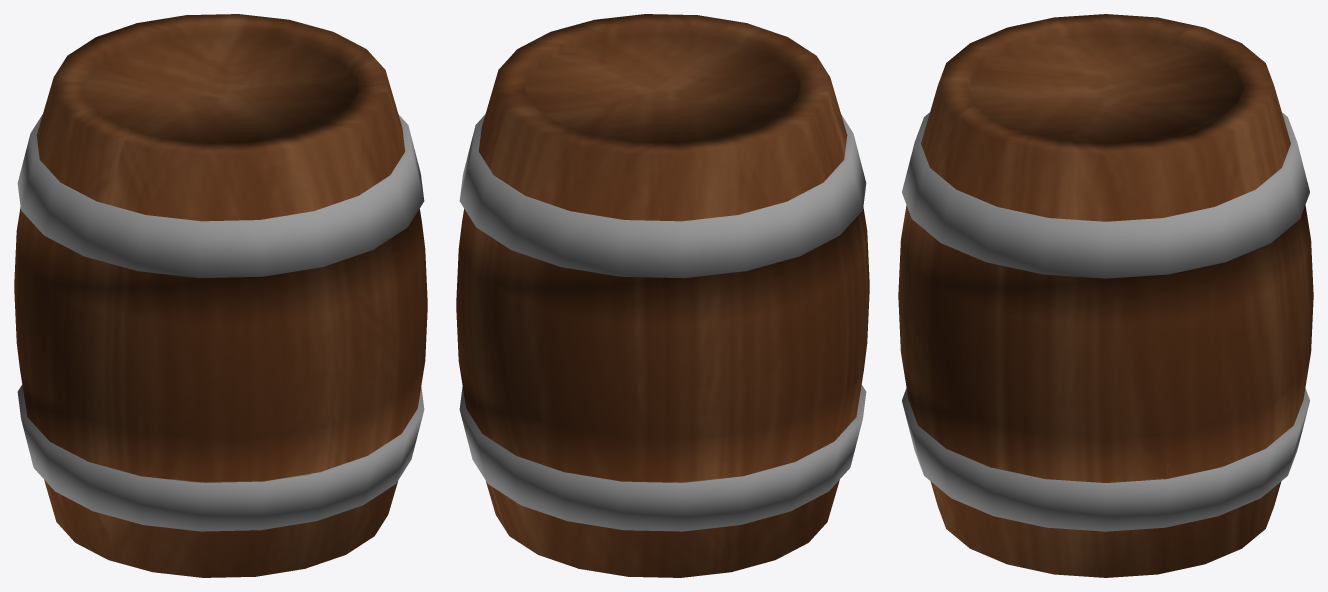
The model's file is Barril.fbx.
3 views of the same model, side by side, from view 1: azimuth 30°, elevation 25°; view 2: azimuth 150°, elevation 25°; view 3: azimuth 270°, elevation 25° (orthographic).
Parts seen in each view (by area): view 1: pSphere9; view 2: pSphere9; view 3: pSphere9.
Boxes of the visible parts, x1=… form: pSphere9: x1=14, y1=14, x2=427, y2=577; pSphere9: x1=456, y1=14, x2=869, y2=577; pSphere9: x1=898, y1=14, x2=1313, y2=577.
Bounding box in the file's own units: 59.64 × 66.85 × 59.64.
Materials: 1 (1 with a texture image).
